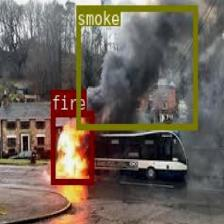fire: (51, 110, 93, 183)
smoke: (76, 4, 196, 128)
